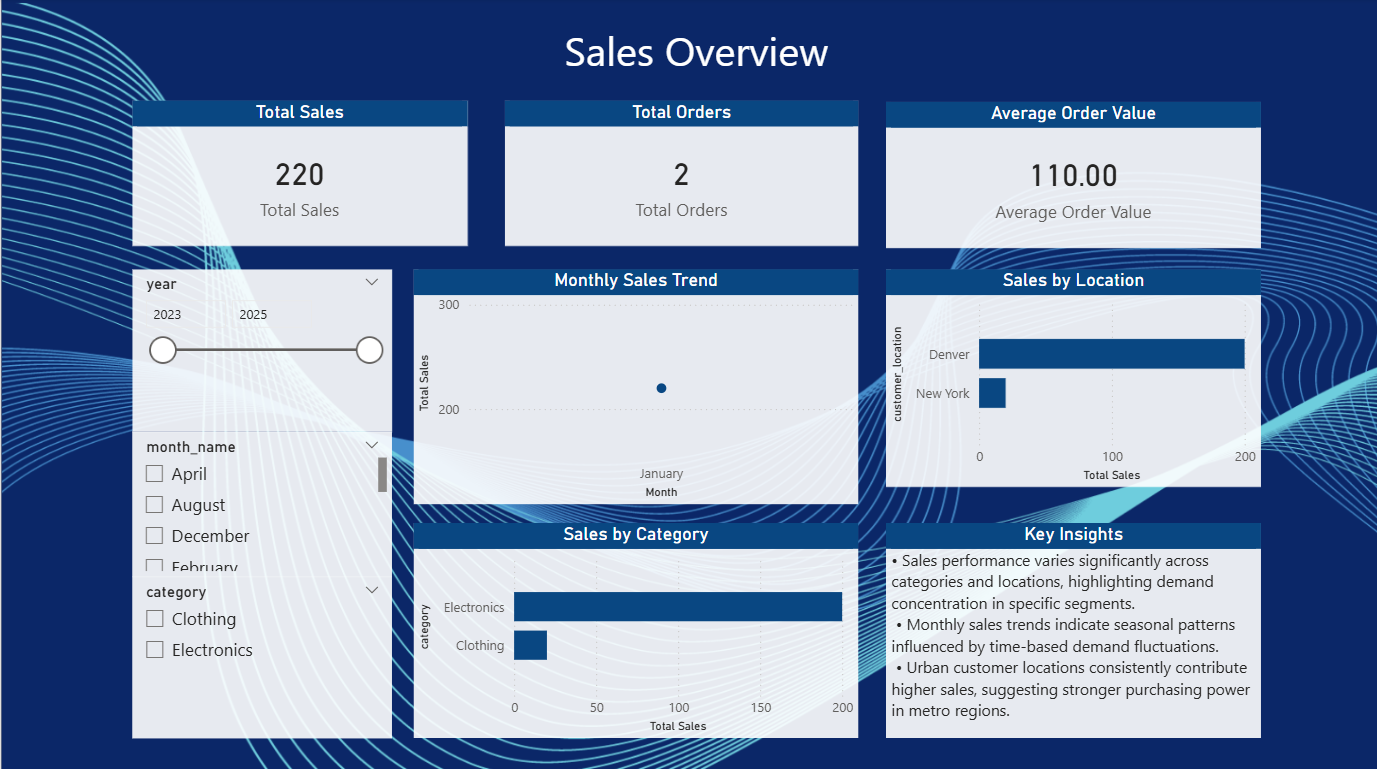

Layout of this report page (visuals, bound fields, positions):
{"tool":"powerbi","page":{"name":"Sales Overview","canvas":[1280,720],"ordinal":0},"visuals":[{"type":"card","title":"Total Orders ","fields":{"Values":["final_amazon_sales.Total Orders"]},"box":[468.7,95.9,329.2,135.2],"z":0},{"type":"card","title":"Total Sales","fields":{"Values":["final_amazon_sales.Total Sales"]},"box":[122.1,95.9,311.7,135.2],"z":1000},{"type":"card","title":"Average Order Value","fields":{"Values":["final_amazon_sales.Average Order Value"]},"box":[823.3,96.5,348.8,136],"z":2000},{"type":"lineChart","title":"Monthly Sales Trend","fields":{"Category":["final_amazon_sales.date.Variation.Date Hierarchy.Month"],"Y":["final_amazon_sales.Total Sales"]},"box":[383.7,252.3,414,218.6],"z":3000},{"type":"clusteredBarChart","title":"Sales by Category","fields":{"Category":["final_amazon_sales.category"],"Y":["final_amazon_sales.Total Sales"]},"box":[383.7,488.4,414,200],"z":4000},{"type":"clusteredBarChart","title":"Sales by Location","fields":{"Category":["final_amazon_sales.customer_location"],"Y":["final_amazon_sales.Total Sales"]},"box":[823.3,252.3,348.8,202.3],"z":5000},{"type":"slicer","fields":{"Values":["final_amazon_sales.month_name"]},"box":[122.1,403.5,241.9,134.9],"z":6000},{"type":"slicer","fields":{"Values":["final_amazon_sales.year"]},"box":[122.1,252.3,241.9,151.2],"z":7000},{"type":"slicer","fields":{"Values":["final_amazon_sales.category"]},"box":[122.1,538.4,242,150.4],"z":8000},{"type":"textbox","box":[98.7,18.2,1096.1,77.9],"z":9000},{"type":"textbox","title":"Key Insights","box":[823,488,349,200],"z":9001}]}

Visuals, with their boxes in screenshot pixels (x1, y1, x2, y2), scaled from the page's 1280x720 canvas onto the 1377x769 screenshot:
"Total Orders " card: detection(504, 102, 858, 247)
"Total Sales" card: detection(131, 102, 467, 247)
"Average Order Value" card: detection(886, 103, 1261, 248)
"Monthly Sales Trend" lineChart: detection(413, 269, 858, 503)
"Sales by Category" clusteredBarChart: detection(413, 522, 858, 735)
"Sales by Location" clusteredBarChart: detection(886, 269, 1261, 486)
slicer - final_amazon_sales.month_name: detection(131, 431, 392, 575)
slicer - final_amazon_sales.year: detection(131, 269, 392, 431)
slicer - final_amazon_sales.category: detection(131, 575, 392, 736)
textbox: detection(106, 19, 1285, 103)
"Key Insights" textbox: detection(885, 521, 1261, 735)
